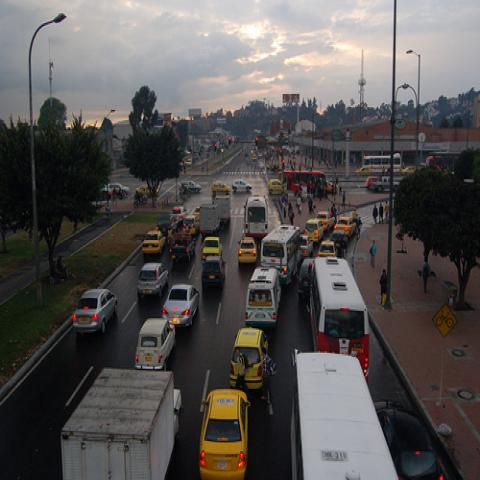bus: (288, 350, 396, 474), (303, 258, 369, 376), (260, 224, 302, 288), (283, 170, 329, 197), (244, 195, 267, 237), (364, 153, 402, 174)
car: (97, 140, 380, 262), (200, 384, 248, 474), (230, 326, 269, 389), (71, 286, 118, 338), (134, 316, 176, 370), (163, 284, 199, 326), (136, 262, 171, 297), (202, 255, 228, 288), (304, 217, 326, 244), (238, 236, 257, 265), (334, 217, 357, 239), (315, 210, 335, 232), (318, 241, 338, 257), (232, 179, 252, 192)
truck: (60, 366, 184, 478), (200, 202, 220, 232), (213, 195, 231, 225), (370, 175, 400, 191)
